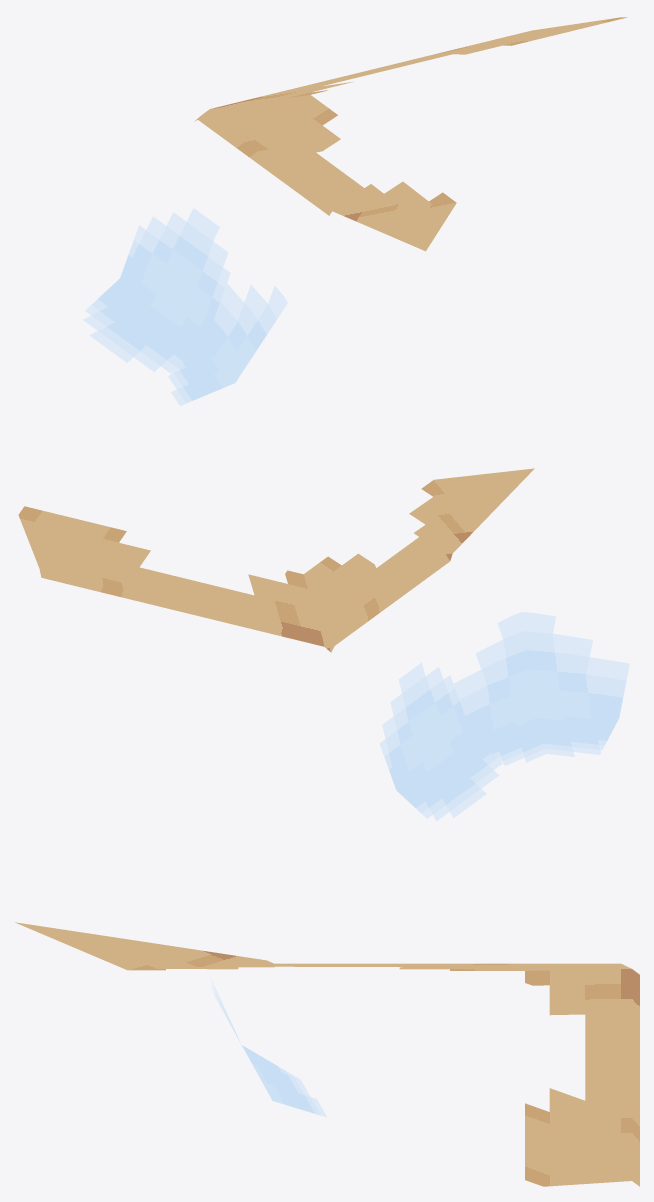
File: ecume-cote-native-29.glb
3 views of the same model, one above another, from view 1: azimuth 30°, elevation 25°; view 2: azimuth 150°, elevation 25°; view 3: azimuth 270°, elevation 25° (orthographic). The views are drawn at different scales.
Bounding box in the file's own units: 1.77 × 0.7266 × 1.22.
Materials: 2 (2 with a texture image).
